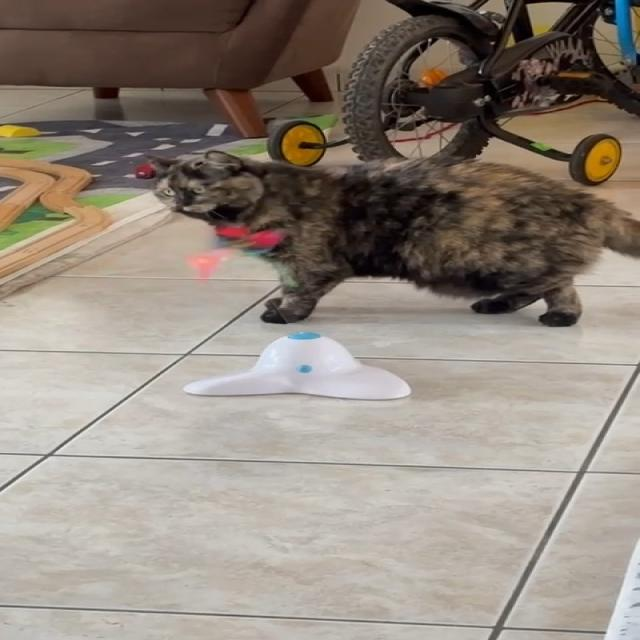authorized: (142, 148, 638, 326)
